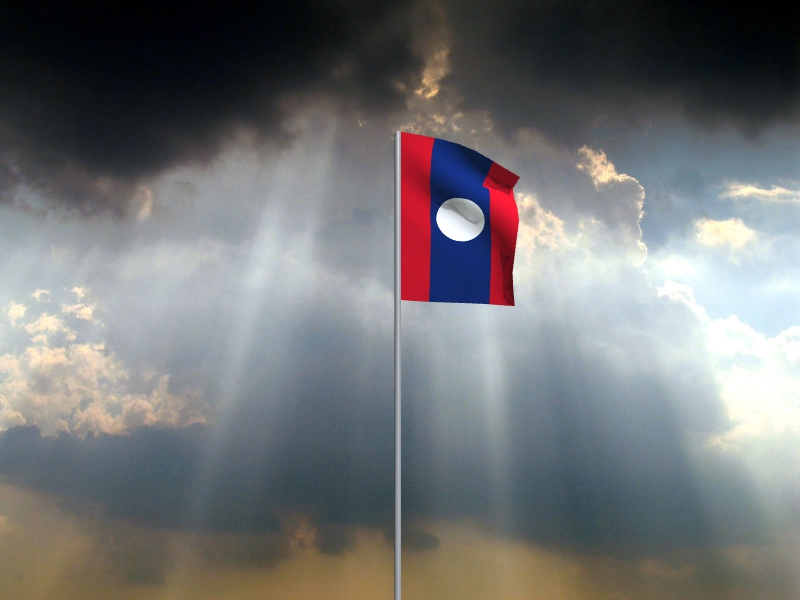la: (402, 132, 522, 308)
